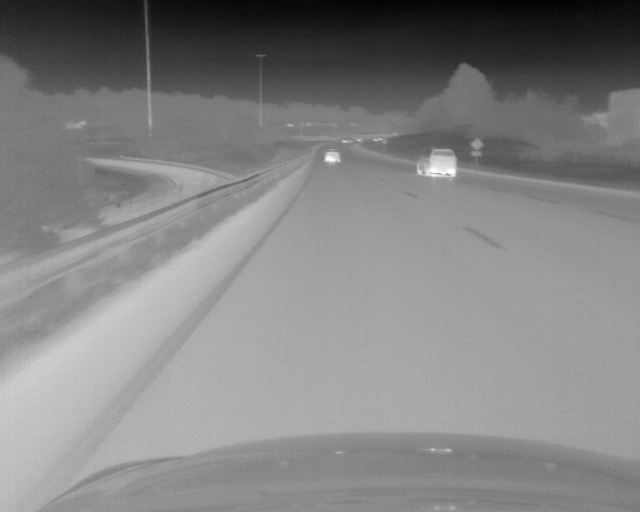car: (414, 148, 457, 177), (325, 149, 341, 163), (344, 137, 350, 144), (356, 138, 364, 143), (372, 137, 379, 142)
